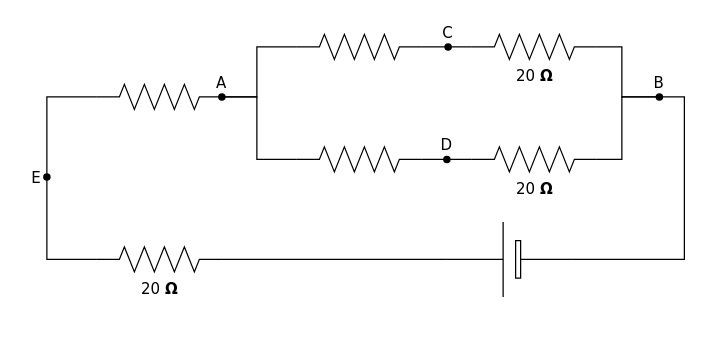
Some shapes in this 708 by 345 pixel diagram are drawn without their labels. Each missing label, with the box of its shape:
220 V: (446, 221, 572, 297)
40 Ω: (296, 33, 422, 59)
50 Ω: (96, 83, 222, 109)
70 Ω: (296, 146, 422, 172)
